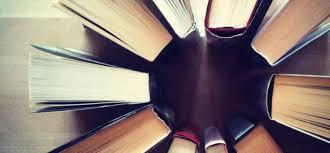Paper: (2, 1, 330, 153)
